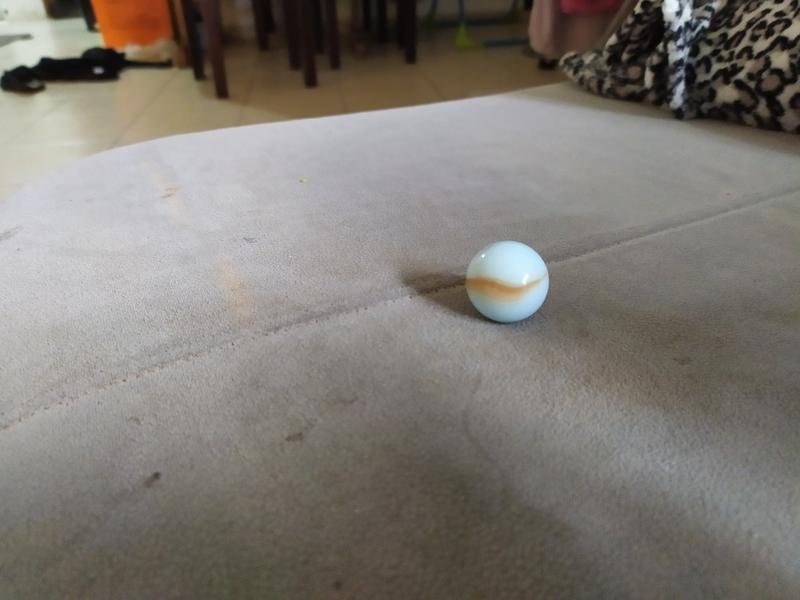Warning: (462, 237, 554, 326)
